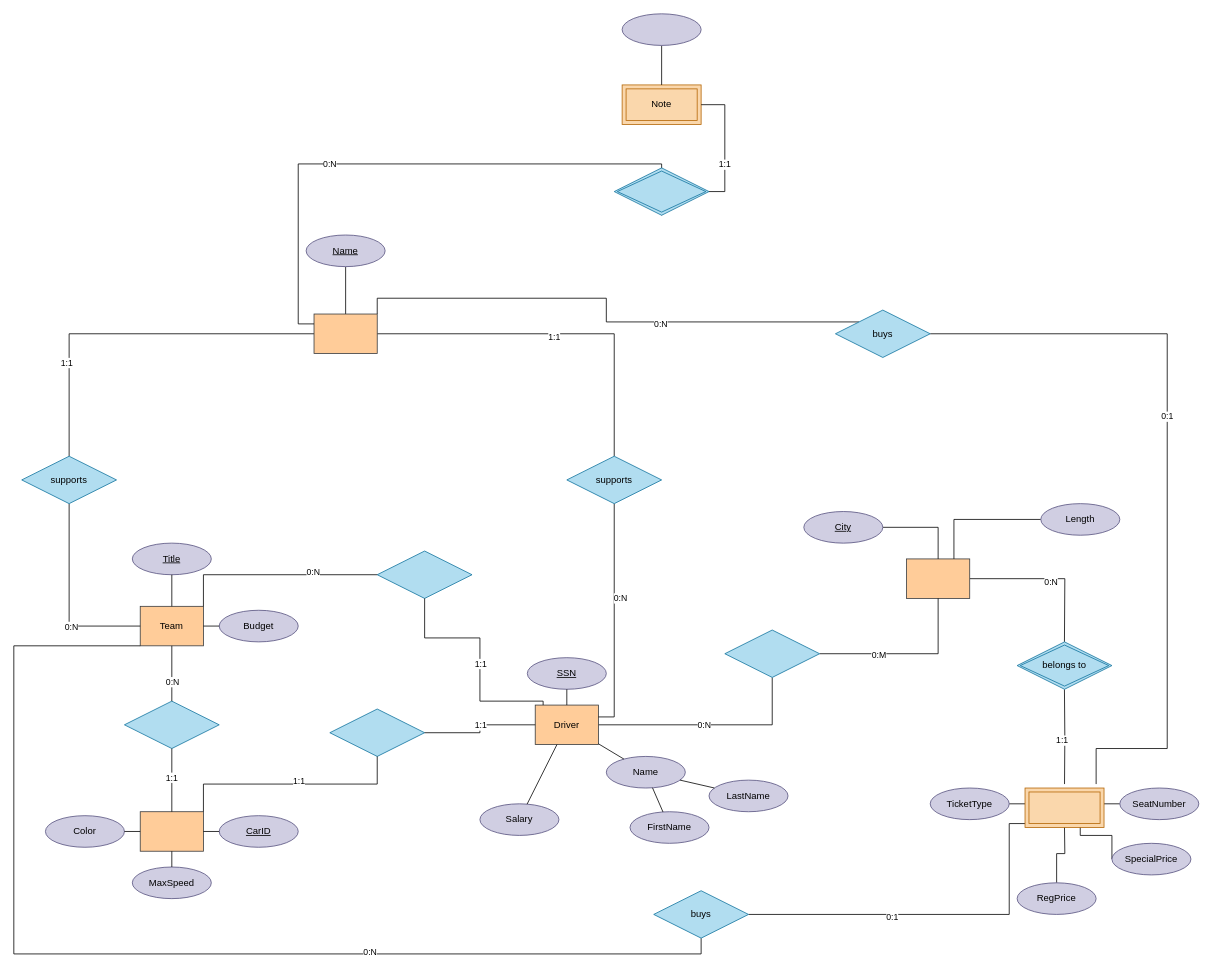
Some shapes in this 1213 by 971 pixel diagram are drawn without their labels. Here are the shapes that lost their labels. From the top down, the box of each, then its label:
(621, 13, 701, 45): SpecialMessage
(613, 167, 709, 215): sent to
(313, 313, 377, 354): Fan
(376, 550, 472, 598): pays
(906, 558, 970, 598): Race
(724, 629, 820, 677): participates in
(124, 700, 219, 749): has
(329, 708, 425, 756): drives
(1024, 787, 1104, 828): Ticket
(139, 811, 203, 851): Car
